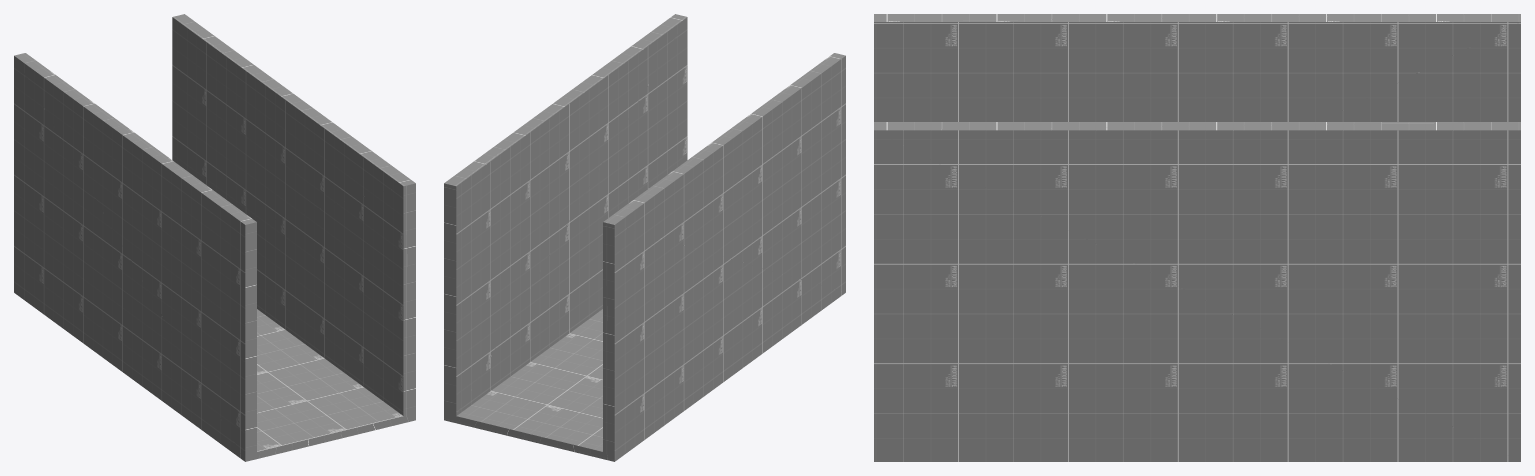
The model's file is hallway_2.obj.
3 views of the same model, side by side, from view 1: azimuth 30°, elevation 25°; view 2: azimuth 150°, elevation 25°; view 3: azimuth 270°, elevation 25° (orthographic). The views are drawn at different scales.
Visible parts, largest first — view 1: Plane.007; view 2: Plane.007; view 3: Plane.007.
Part boxes in pixels (x1=…): Plane.007: x1=14, y1=14, x2=415, y2=461; Plane.007: x1=444, y1=14, x2=845, y2=461; Plane.007: x1=874, y1=14, x2=1520, y2=461.
Bounding box in the file's own units: 0.8774 × 1.16 × 2.06.
